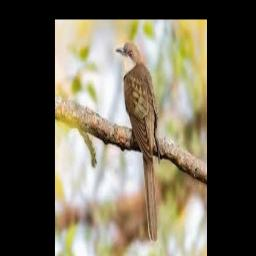Cuckoo: (115, 41, 159, 243)
